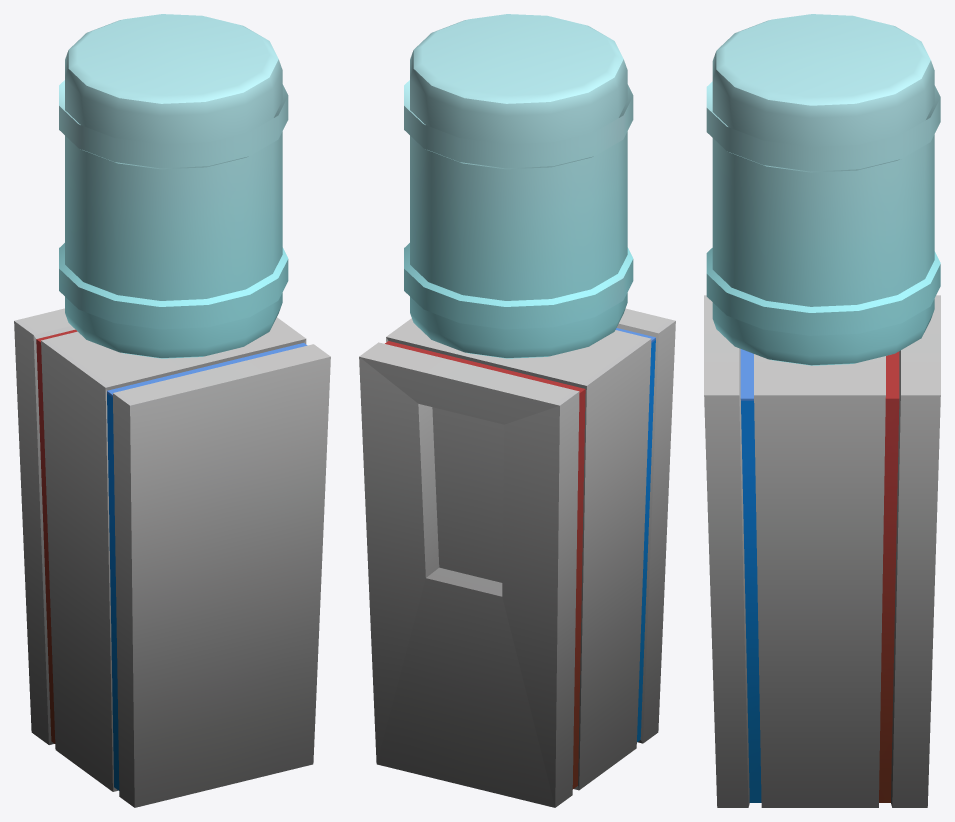
The model's file is WATERCOOLER.fbx.
3 views of the same model, side by side, from view 1: azimuth 30°, elevation 25°; view 2: azimuth 150°, elevation 25°; view 3: azimuth 270°, elevation 25° (orthographic). The views are drawn at different scales.
Parts seen in each view (by area): view 1: Cylinder.001; view 2: Cylinder.001; view 3: Cylinder.001.
Boxes of the visible parts, x1,y1,x2,y2 form: Cylinder.001: (14,14,330,807); Cylinder.001: (359,14,675,807); Cylinder.001: (704,14,940,807).
Bounding box in the file's own units: 19.74 × 65.11 × 19.74.
